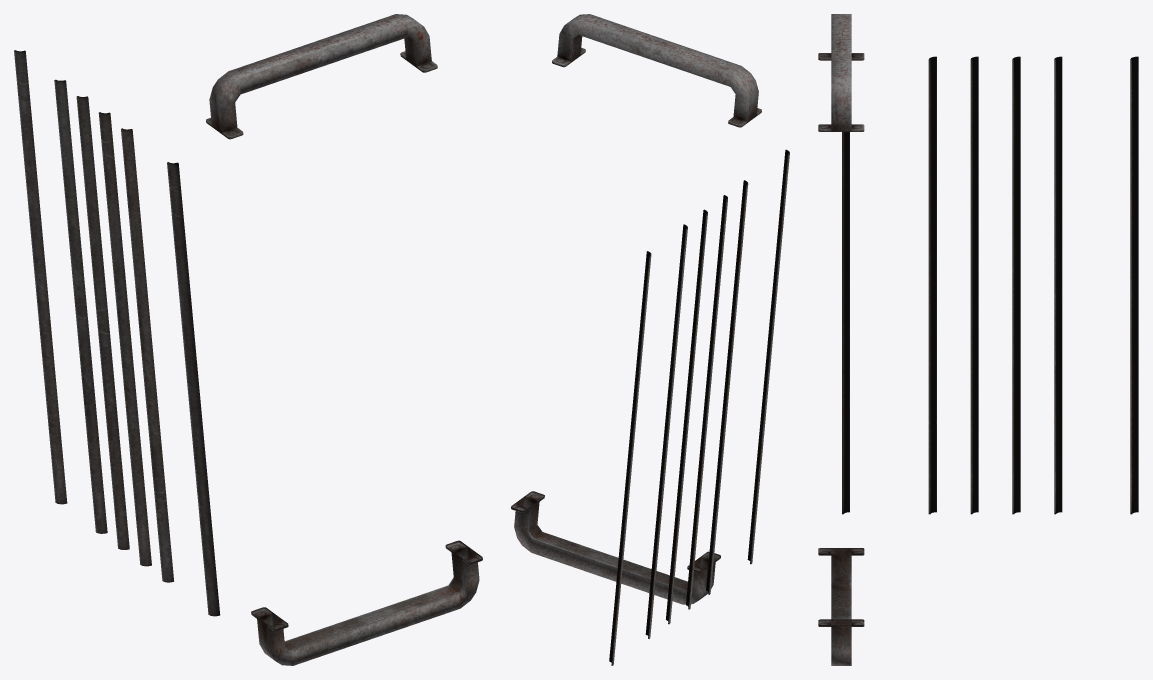
Rendered from Tool_Cabinet_Handles_low.obj.
3 renders of one model, left to right at view 1: azimuth 30°, elevation 25°; view 2: azimuth 150°, elevation 25°; view 3: azimuth 270°, elevation 25°, orthographic. The views are drawn at different scales.
Size of the model in its own units: 0.4029 by 0.7843 by 0.3915.
1 material, 1 textured.
